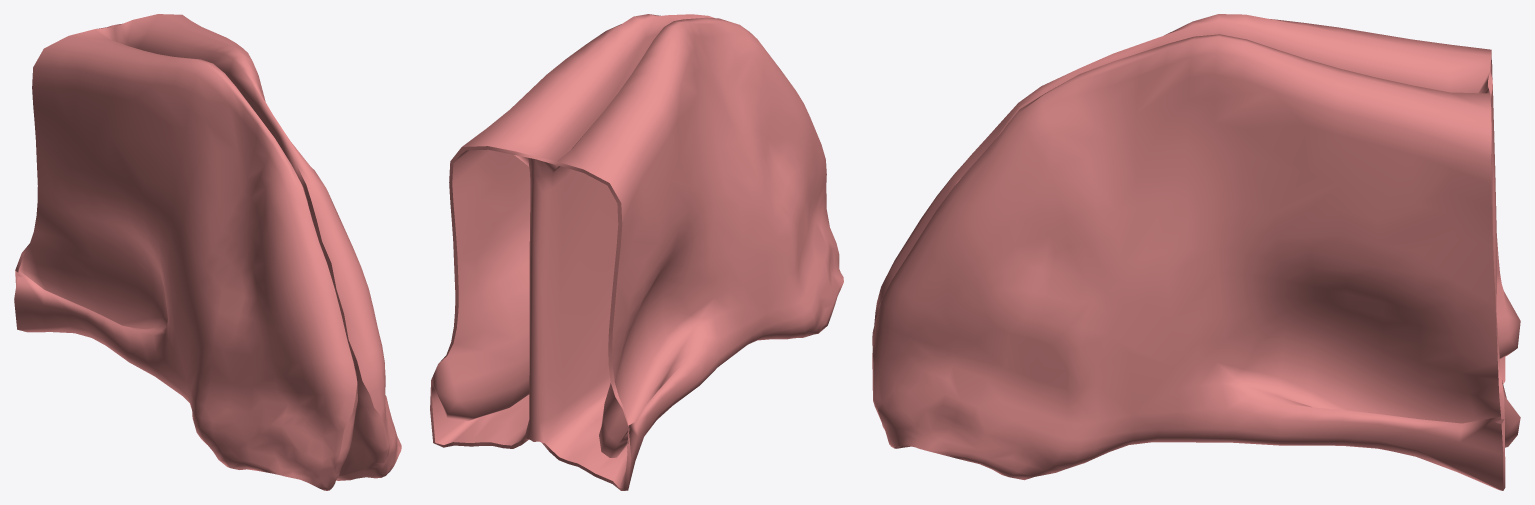
Rendered from visceras-mucosa-of-nasal-cavity.glb.
3 views of the same model, side by side, from view 1: azimuth 30°, elevation 25°; view 2: azimuth 150°, elevation 25°; view 3: azimuth 270°, elevation 25° (orthographic). The views are drawn at different scales.
Parts seen in each view (by area): view 1: Mucosa of nasal cavity; view 2: Mucosa of nasal cavity; view 3: Mucosa of nasal cavity.
Part boxes in pixels (x1,y1,x2,y2): Mucosa of nasal cavity: [14, 14, 401, 490]; Mucosa of nasal cavity: [430, 14, 843, 490]; Mucosa of nasal cavity: [872, 14, 1520, 490].
Size of the model in its own units: 0.0273 by 0.0479 by 0.0659.
